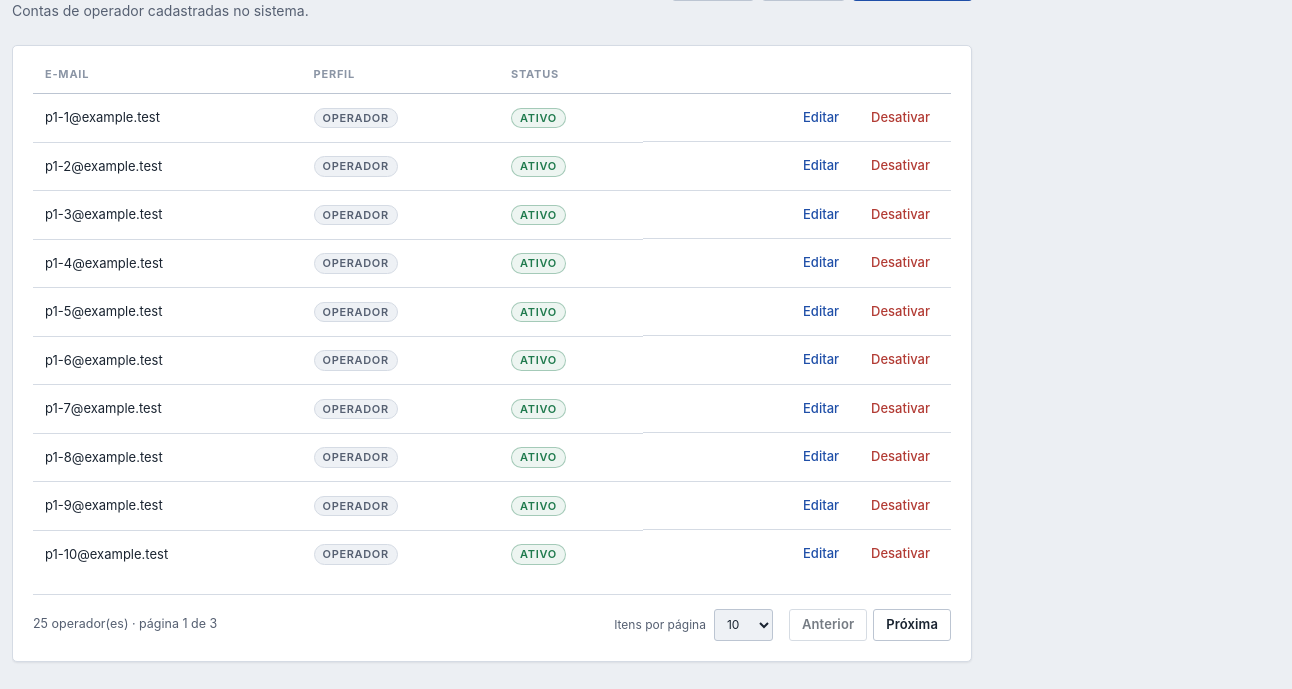
Test: OperatorsListPage: carga, filtro, paginação e erros › pede o novo tamanho e volta à página 1 ao mudar os itens por página
expect the text "p1-1@example.test" is shown: met, box [33, 93, 302, 142]
Click the button "Próxima" at {"x": 912, "y": 625}, box [873, 609, 951, 641]
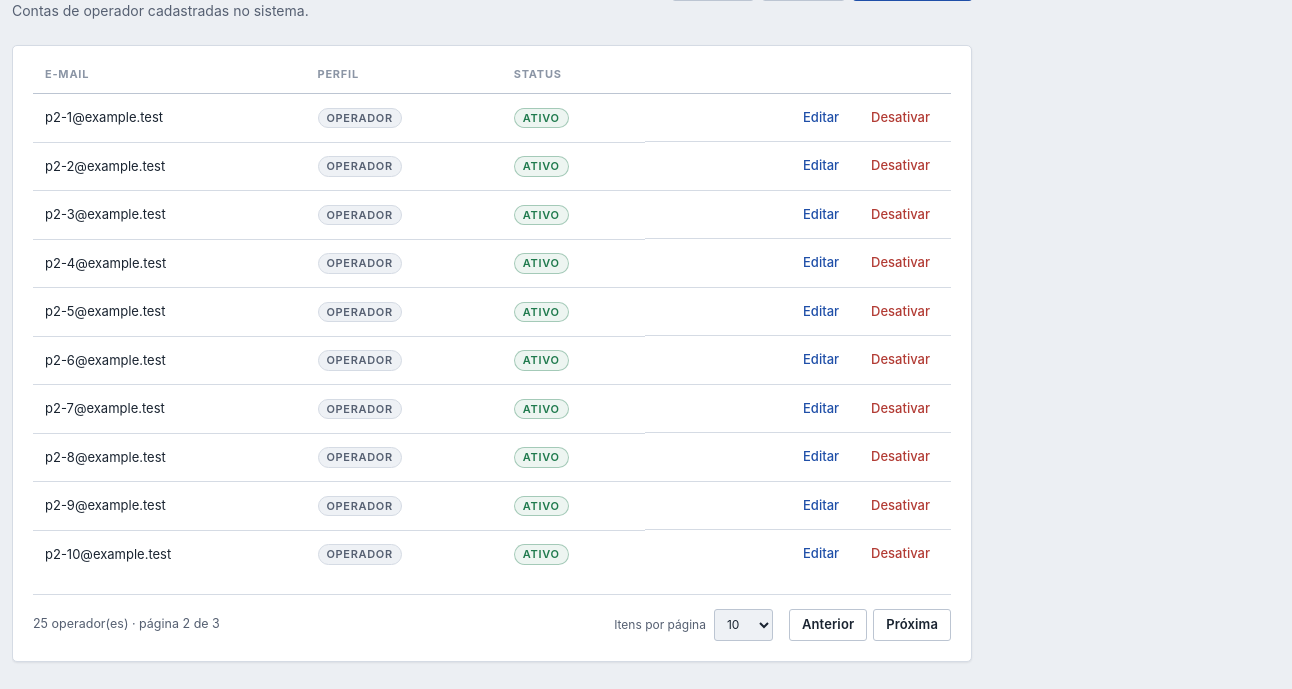
expect the text "25 operador(es) · página 2 de 3" is shown: met, box [33, 615, 220, 634]
Select "25" in the dropdown labelled "Itens por página" at {"x": 743, "y": 625}, box [714, 609, 773, 641]
(page scrolled)
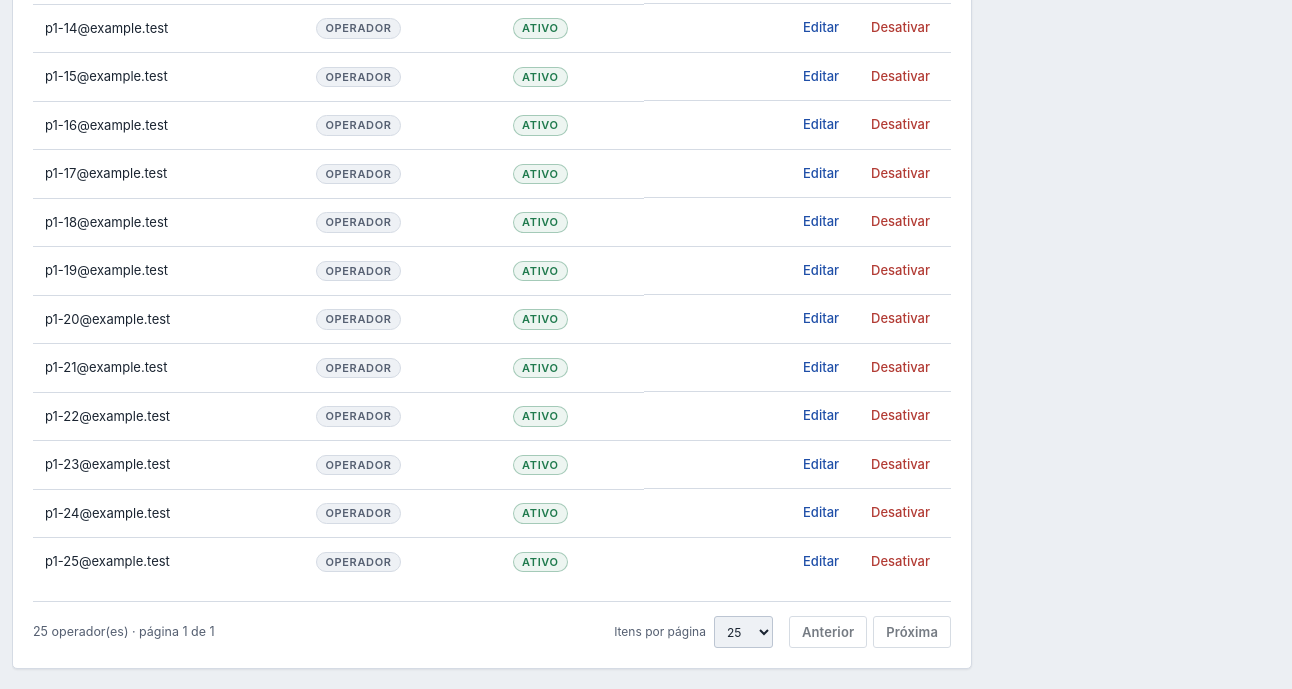
expect the text "25 operador(es) · página 1 de 1" is shown: met, box [33, 623, 215, 642]
